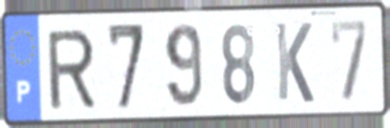7: (105, 21, 148, 114), (328, 16, 370, 106)
8: (220, 22, 257, 108)
9: (162, 21, 204, 110)
K: (273, 19, 316, 106)
R: (44, 26, 98, 113)
